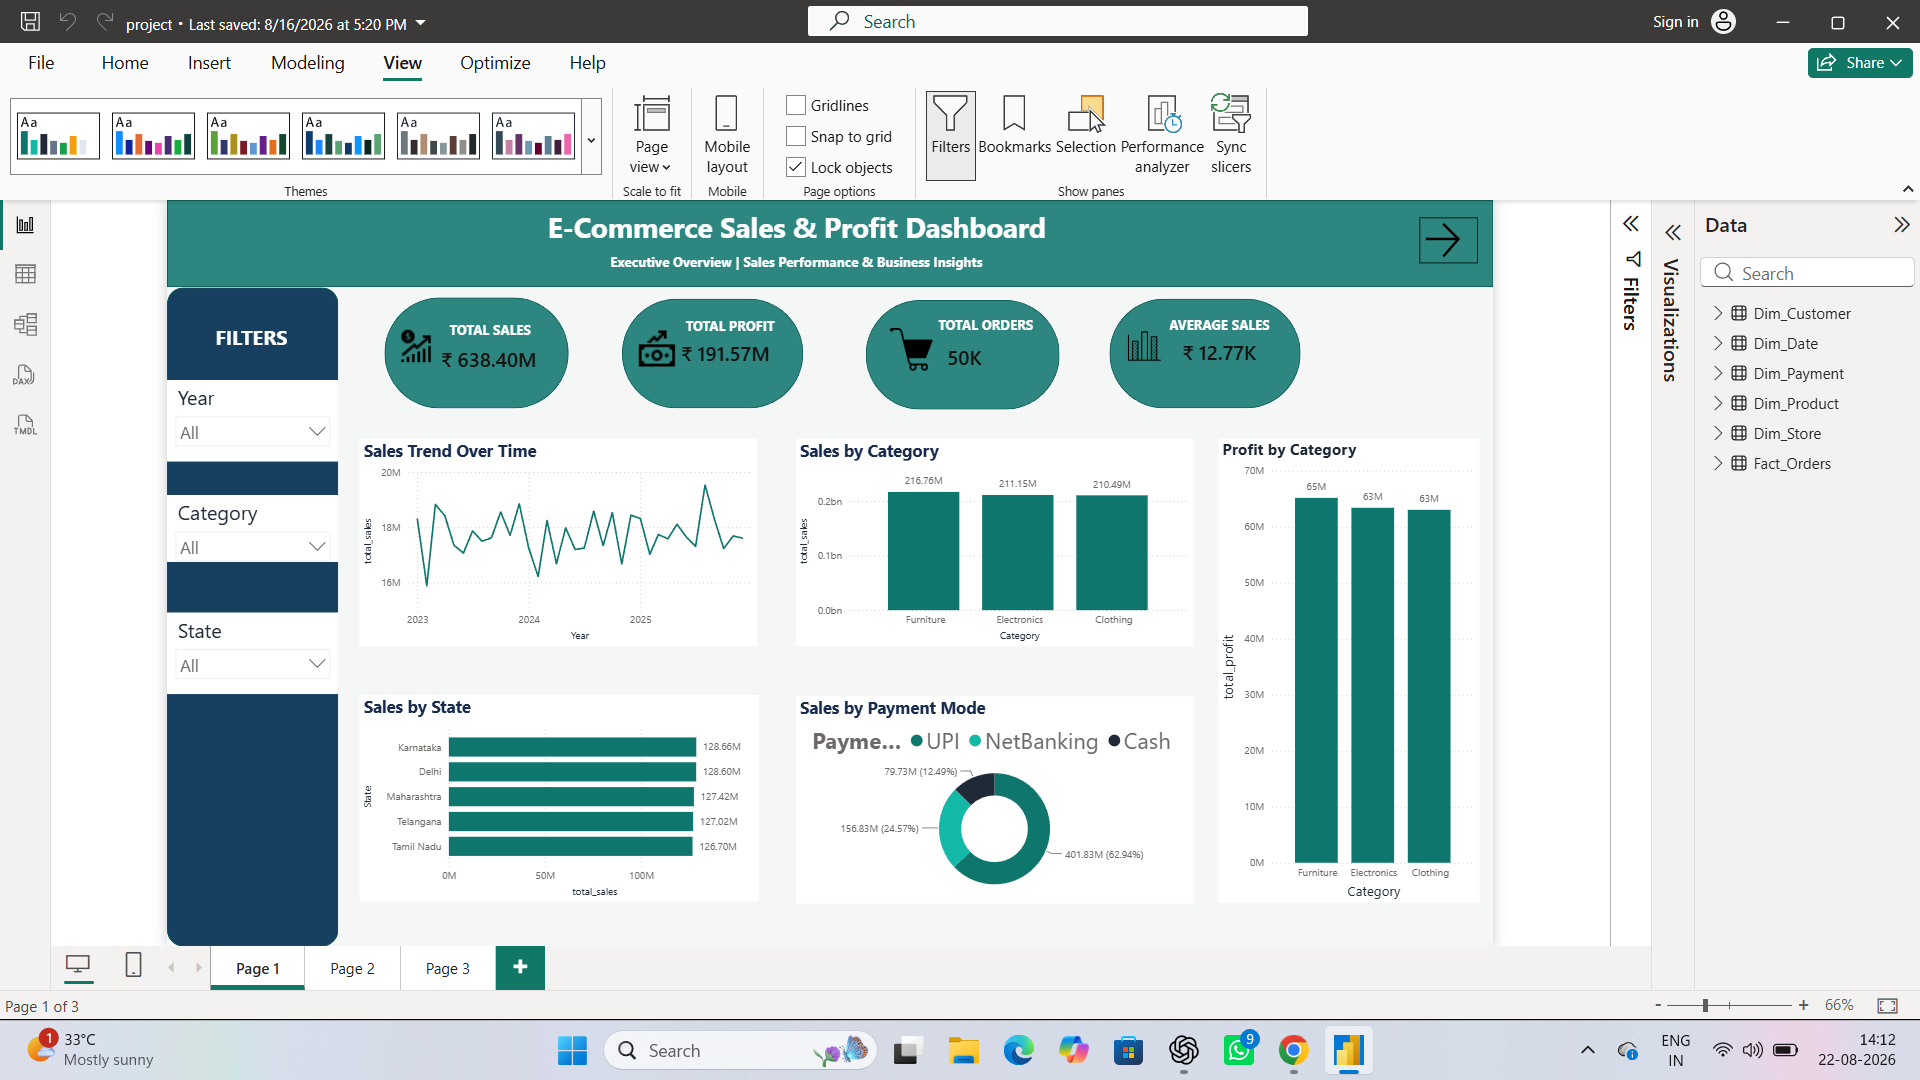

The page's visual inventory and layout, read from the dashboard file:
{"tool":"powerbi","page":{"name":"Page 1","canvas":[1600,900],"ordinal":0},"visuals":[{"type":"lineChart","title":"Sales Trend Over Time","fields":{"Y":["Fact_Orders.total_sales"],"Category":["Dim_Date.Date.Variation.Date Hierarchy.Year","Dim_Date.Date.Variation.Date Hierarchy.Month"]},"box":[232.8,287.9,480,250],"z":0},{"type":"clusteredColumnChart","title":"Sales by Category","fields":{"Category":["Dim_Product.Category"],"Y":["Fact_Orders.total_sales"]},"box":[758.6,287.9,480,250],"z":1000},{"type":"clusteredBarChart","title":"Sales by State","fields":{"Y":["Fact_Orders.total_sales"],"Category":["Dim_Store.State"]},"box":[232.2,596.6,481.4,249.2],"z":2000},{"type":"donutChart","title":"Sales by Payment Mode","fields":{"Category":["Dim_Payment.Payment_Mode"],"Y":["Fact_Orders.total_sales"]},"box":[758.6,598.3,480,250],"z":3000},{"type":"shape","box":[0,0,1600,104.8],"z":4000},{"type":"actionButton","box":[368.9,31.1,780,85],"z":5000},{"type":"shape","box":[261.7,116.9,222,133.9],"z":6000},{"type":"shape","box":[1136.6,118.6,230.5,132.2],"z":7000},{"type":"shape","box":[843.4,120,233.9,132.2],"z":8000},{"type":"cardVisual","fields":{"Data":["Fact_Orders.total_sales"]},"box":[301.7,145.8,200,89.3],"z":9000},{"type":"shape","box":[549.5,118.6,218.6,132.2],"z":10000},{"type":"cardVisual","fields":{"Data":["Fact_Orders.total_profit"]},"box":[591.1,139.3,200,90.3],"z":11000},{"type":"cardVisual","fields":{"Data":["Fact_Orders.total_orders"]},"box":[912.5,142.9,177.4,90.3],"z":12000},{"type":"cardVisual","fields":{"Data":["Dim_Customer.average sales"]},"box":[1196.4,137.5,200,90.3],"z":13000},{"type":"actionButton","box":[591.1,108.9,176.7,85],"z":14000},{"type":"actionButton","box":[900,108.9,175,83.3],"z":15000},{"type":"actionButton","box":[1182.1,108.9,175,83.3],"z":16000},{"type":"shape","box":[0,105.1,206.8,794.9],"z":17000},{"type":"actionButton","box":[301.7,115.3,176.8,83.9],"z":18000},{"type":"actionButton","box":[0,120.7,203.6,89.3],"z":19000},{"type":"slicer","fields":{"Values":["Dim_Date.Year"]},"box":[0,217.2,206.9,98.3],"z":20000},{"type":"slicer","fields":{"Values":["Dim_Product.Category"]},"box":[0,355.2,206.9,81],"z":21000},{"type":"slicer","fields":{"Values":["Dim_Store.State"]},"box":[0,498.3,206.9,98.3],"z":22000},{"type":"actionButton","box":[368.9,0,780.6,62.9],"z":23000},{"type":"columnChart","title":"Profit by Category","fields":{"Category":["Dim_Product.Category"],"Y":["Fact_Orders.total_profit"]},"box":[1269,287.9,315.5,560.3],"z":24000},{"type":"image","box":[864.3,151.8,69.6,53.6],"z":25000},{"type":"image","box":[1144.6,150,69.6,53.6],"z":26000},{"type":"image","box":[275,150,51.8,53.6],"z":27000},{"type":"image","box":[558.9,151.8,62.5,53.6],"z":28000},{"type":"actionButton","box":[1510.3,20.7,70,55],"z":29000}]}

Visuals, with their boxes on the page's 1600x900 design canvas (x1, y1, x2, y2). These are canvas units, not pixel positions in the 1920x1080 screenshot, which may show the page scaled, cropped or inside an application window:
"Sales Trend Over Time" lineChart: <box>233,288,713,538</box>
"Sales by Category" clusteredColumnChart: <box>759,288,1239,538</box>
"Sales by State" clusteredBarChart: <box>232,597,714,846</box>
"Sales by Payment Mode" donutChart: <box>759,598,1239,848</box>
shape: <box>0,0,1600,105</box>
actionButton: <box>369,31,1149,116</box>
shape: <box>262,117,484,251</box>
shape: <box>1137,119,1367,251</box>
shape: <box>843,120,1077,252</box>
cardVisual - Fact_Orders.total_sales: <box>302,146,502,235</box>
shape: <box>550,119,768,251</box>
cardVisual - Fact_Orders.total_profit: <box>591,139,791,230</box>
cardVisual - Fact_Orders.total_orders: <box>912,143,1090,233</box>
cardVisual - Dim_Customer.average sales: <box>1196,138,1396,228</box>
actionButton: <box>591,109,768,194</box>
actionButton: <box>900,109,1075,192</box>
actionButton: <box>1182,109,1357,192</box>
shape: <box>0,105,207,900</box>
actionButton: <box>302,115,478,199</box>
actionButton: <box>0,121,204,210</box>
slicer - Dim_Date.Year: <box>0,217,207,316</box>
slicer - Dim_Product.Category: <box>0,355,207,436</box>
slicer - Dim_Store.State: <box>0,498,207,597</box>
actionButton: <box>369,0,1150,63</box>
"Profit by Category" columnChart: <box>1269,288,1584,848</box>
image: <box>864,152,934,205</box>
image: <box>1145,150,1214,204</box>
image: <box>275,150,327,204</box>
image: <box>559,152,621,205</box>
actionButton: <box>1510,21,1580,76</box>
